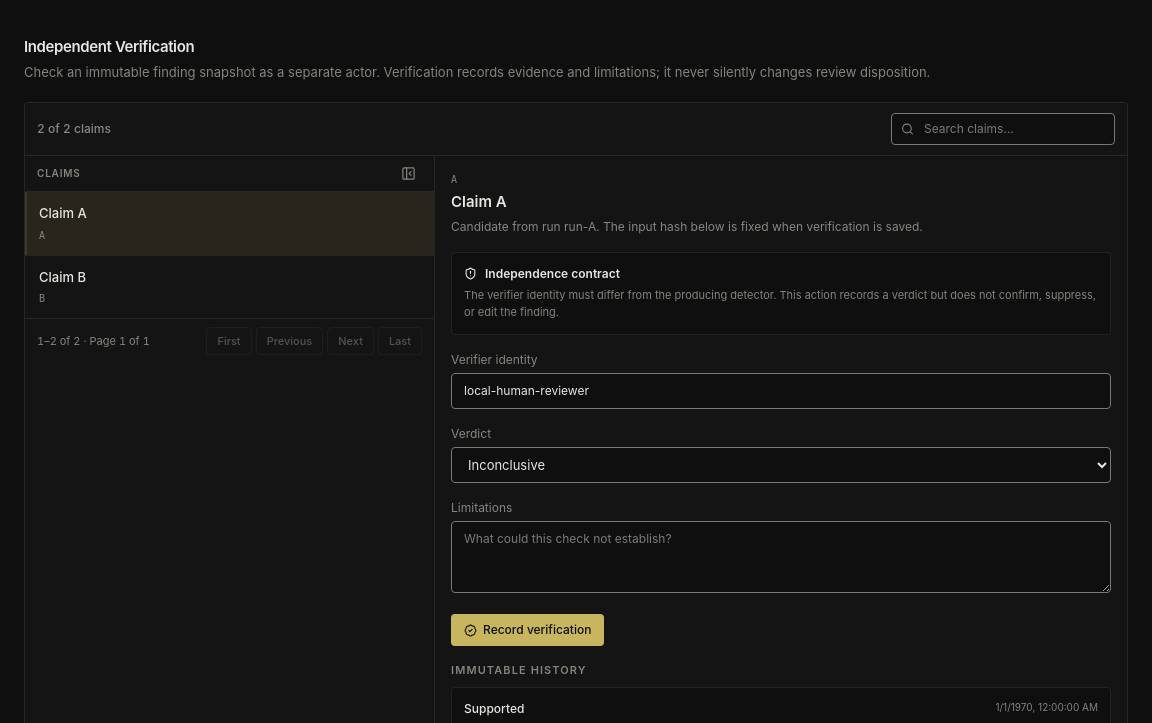
Scenario: switching claims hides previous history immediately while new history loads
Click the button named "Claim BB".
click(63, 276)  # box [25, 256, 434, 318]
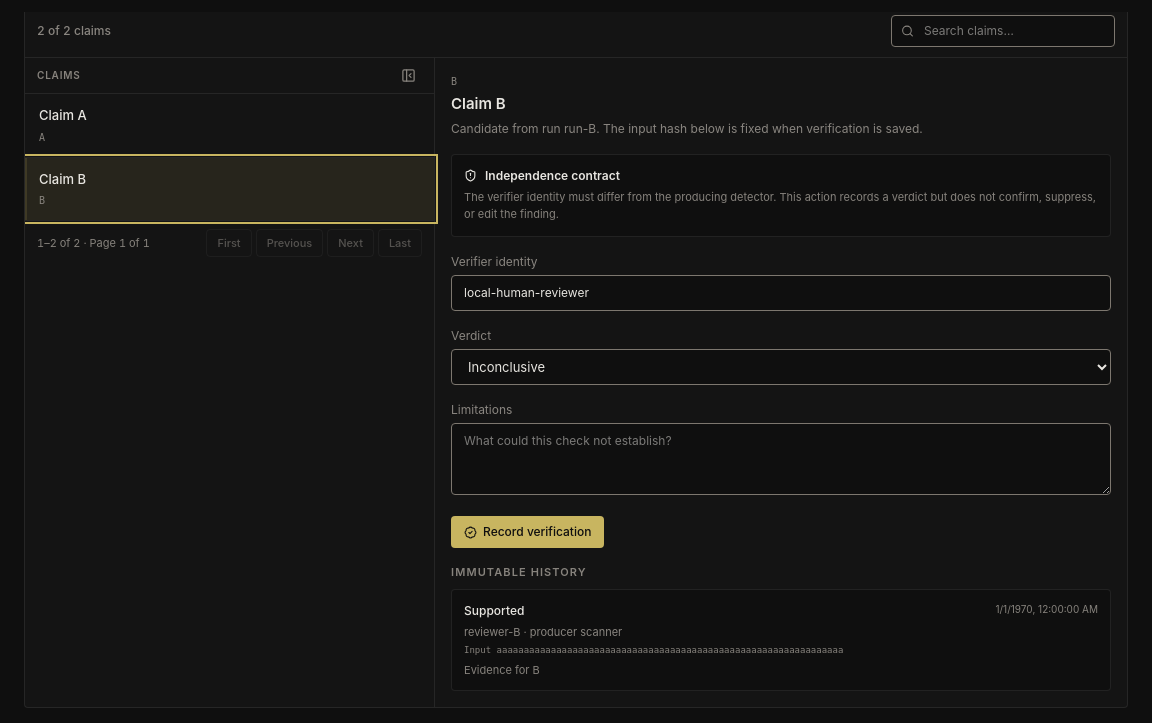
Check: the text "Evidence for B" is shown, box [464, 663, 540, 677]
